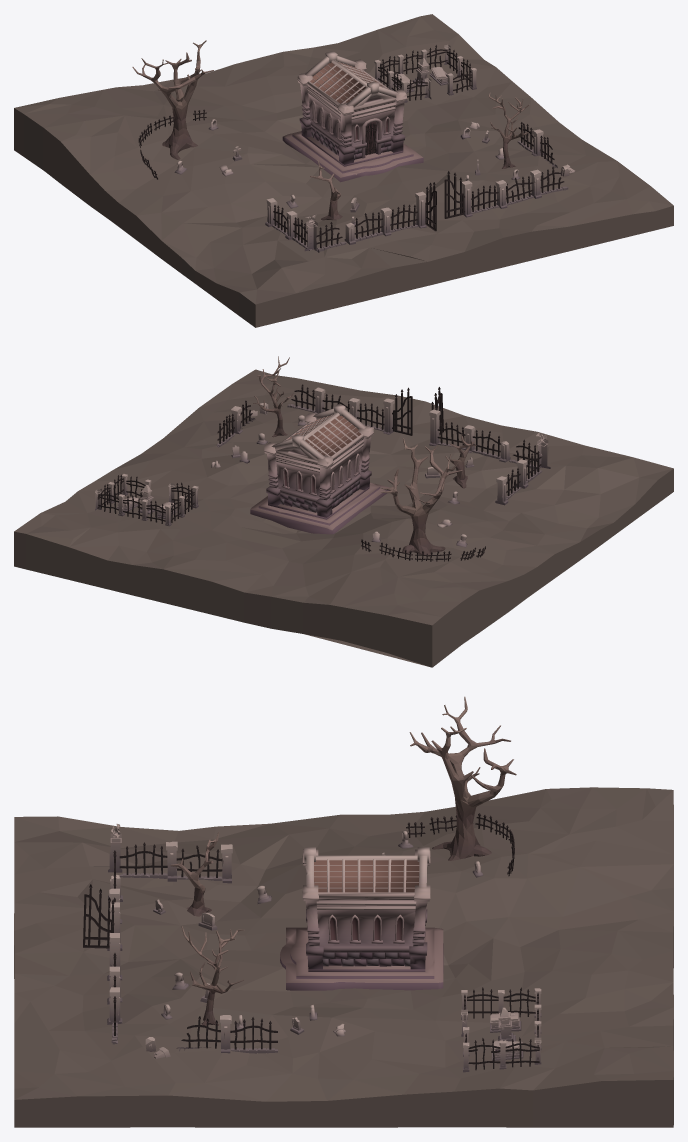
The model's file is graveyardScene.glb.
The picture shows the model from 3 angles, top to bottom: view 1: azimuth 30°, elevation 25°; view 2: azimuth 150°, elevation 25°; view 3: azimuth 270°, elevation 25°; orthographic projection. The views are drawn at different scales.
Visible parts, largest first — view 1: graveyardScene; view 2: graveyardScene; view 3: graveyardScene.
Part boxes in pixels (bbox=[...]): graveyardScene: bbox=[14, 14, 673, 327]; graveyardScene: bbox=[14, 356, 673, 667]; graveyardScene: bbox=[14, 696, 673, 1127].
Bounding box in the file's own units: 35.86 × 11.76 × 35.87.
1 material, 1 textured.
